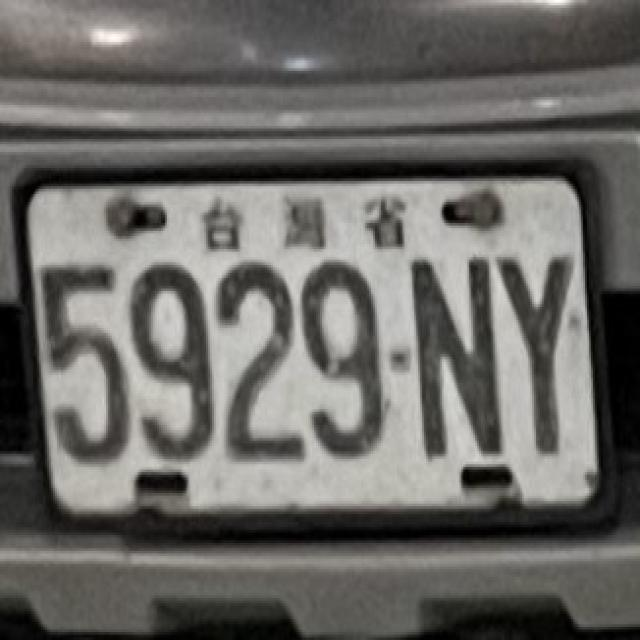license-plate: (26, 186, 606, 516)
